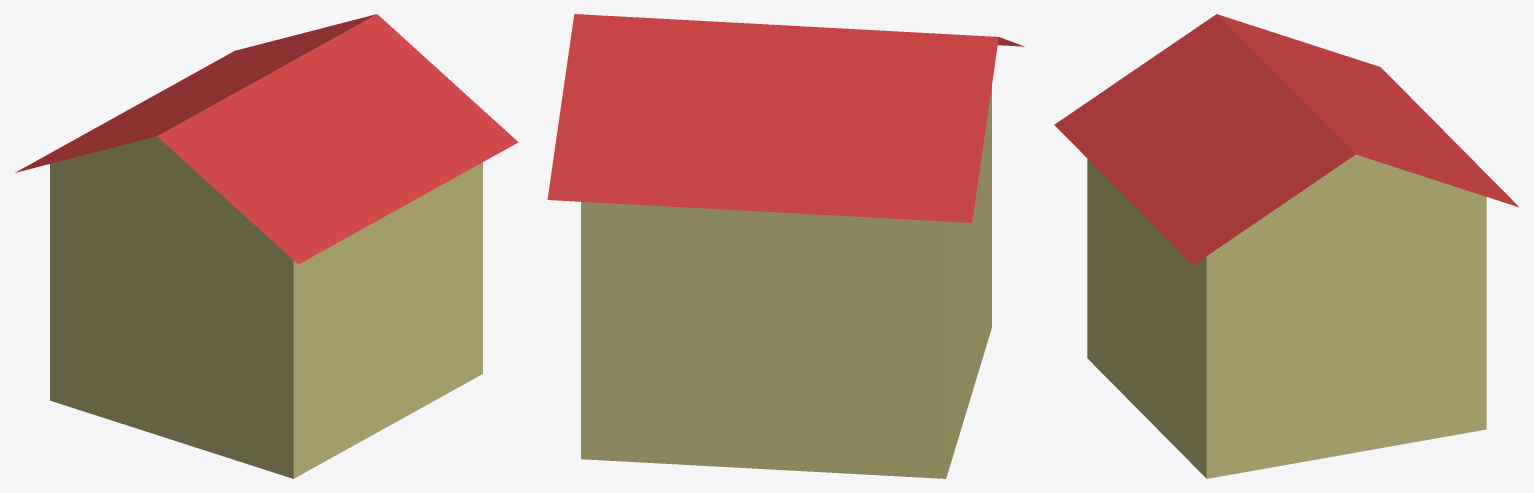
3 views of the same model, side by side, from view 1: azimuth 30°, elevation 25°; view 2: azimuth 150°, elevation 25°; view 3: azimuth 270°, elevation 25° (orthographic). The views are drawn at different scales.
Bounding box in the file's own units: 13.91 × 13.81 × 10.13.
